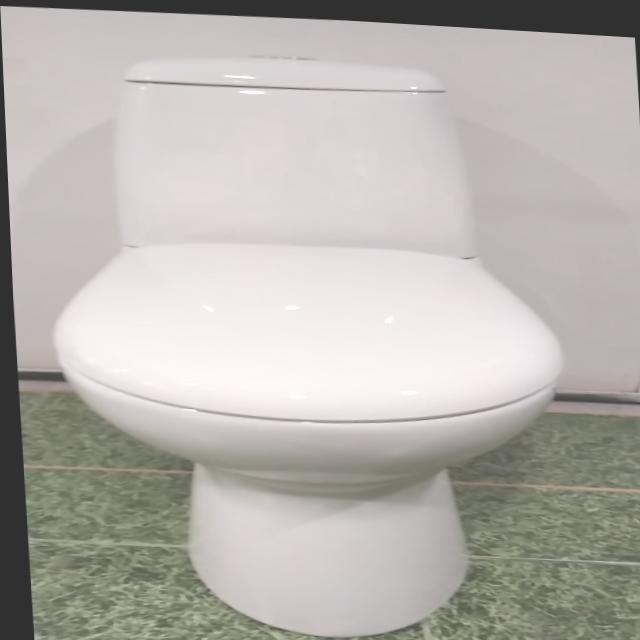toilet: (34, 37, 576, 640)
